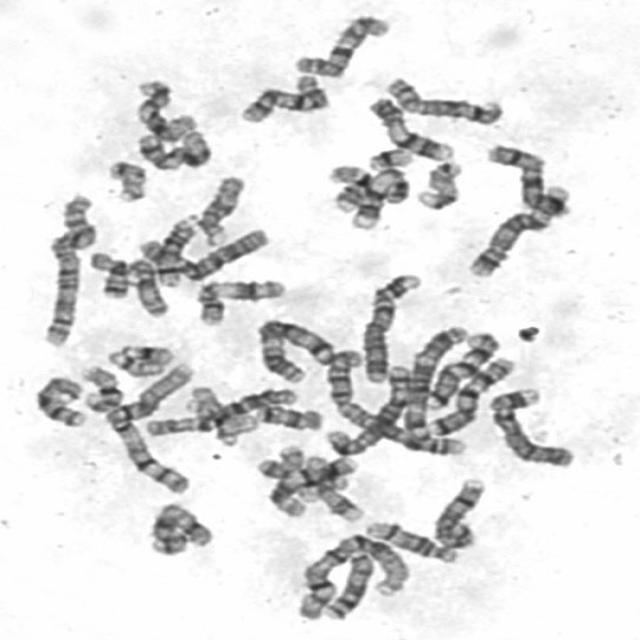A1: (100, 358, 199, 495), (290, 530, 415, 622)
A2: (321, 354, 473, 457), (36, 188, 100, 349)
A3: (397, 320, 471, 440), (250, 313, 343, 385)
B4: (482, 382, 578, 469), (356, 267, 424, 384)
B5: (462, 180, 574, 280), (321, 359, 415, 456)
C10: (288, 10, 393, 80), (232, 69, 332, 125)
C11: (262, 452, 359, 519), (188, 272, 288, 327)
C12: (128, 74, 198, 144), (130, 123, 220, 176)
C6: (137, 383, 300, 438), (136, 224, 272, 283)
C7: (421, 352, 516, 437), (421, 325, 504, 411)
C8: (378, 71, 507, 127), (426, 472, 489, 551)
C9: (362, 91, 455, 163), (345, 163, 412, 235)
D13: (316, 544, 377, 622), (27, 370, 90, 429)
D14: (359, 515, 461, 565), (150, 210, 202, 288)
D15: (191, 170, 249, 245), (123, 253, 172, 318)
E16: (320, 161, 378, 219), (74, 361, 125, 414)
E17: (296, 451, 368, 524), (410, 156, 465, 212)
E18: (83, 246, 132, 300), (249, 400, 325, 432)
F19: (179, 380, 248, 420), (291, 450, 332, 506)
F20: (101, 155, 149, 204), (250, 440, 307, 481)
G21: (100, 338, 176, 378), (360, 142, 416, 172)
G22: (220, 400, 262, 446), (212, 412, 244, 451)
X: (480, 138, 572, 220), (151, 496, 218, 562)
